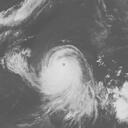cyclone: (39, 44, 91, 107)
